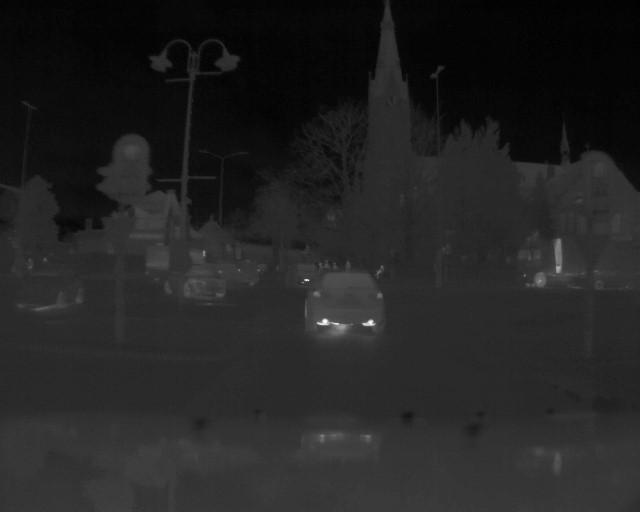car: (301, 263, 388, 336), (12, 260, 86, 316), (161, 260, 228, 301)
